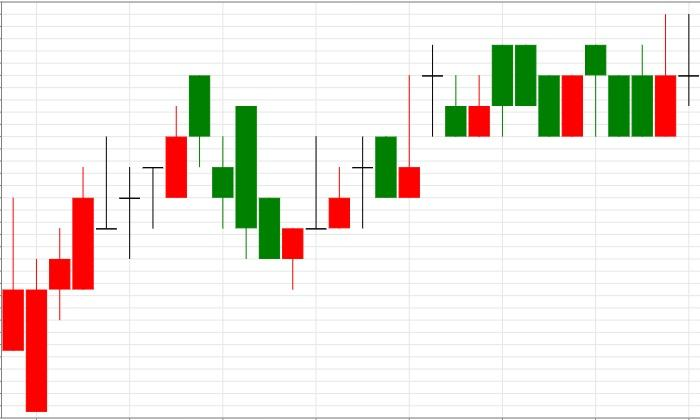hammer_rise: (189, 75, 304, 289)
